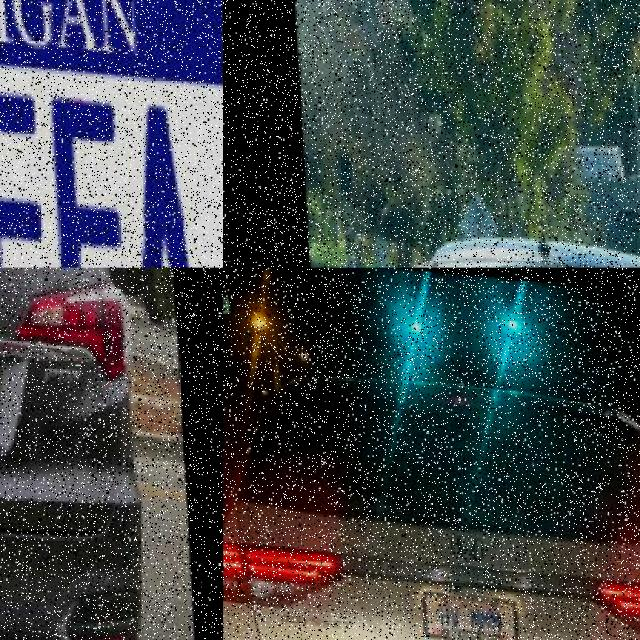licenseplate: (0, 74, 223, 268), (415, 585, 513, 640), (0, 342, 48, 443)
